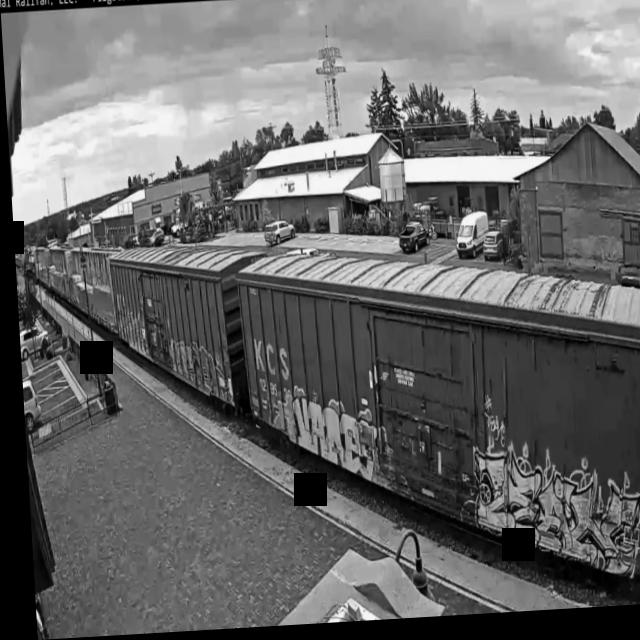boxcar: (227, 225, 640, 630), (97, 228, 250, 432)
